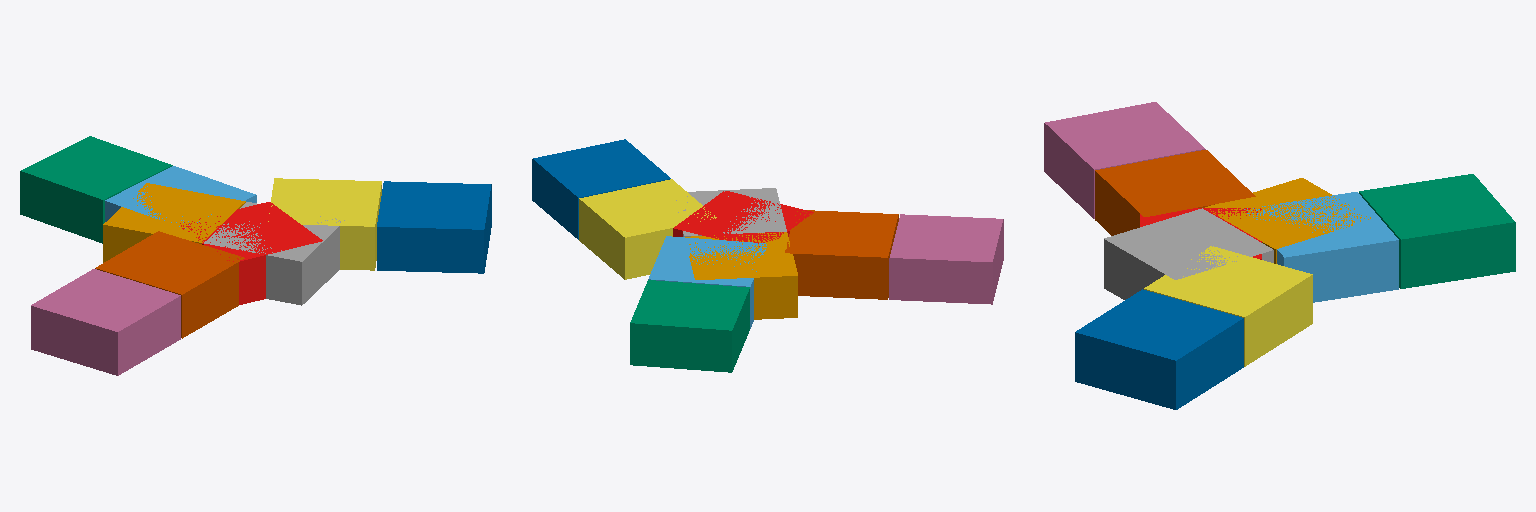
The robot description file, URDF, robot "Model_Models/Model_186.urdf6":
<?xml version='1.0' encoding='UTF-8'?>
<robot name="Model_Models/Model_186.urdf6">
  <link name="base_link">
    <inertial>
      <origin xyz="0.0 0.0 0.0" rpy="0.0 -0.0 0.0"/>
      <mass value="1.0"/>
      <inertia ixx="1.0" ixy="0.0" ixz="0.0" iyy="1.0" iyz="0.0" izz="1.0"/>
    </inertial>
    <visual>
      <geometry>
        <box size="0.67 0.67 0.3 "/>
      </geometry>
      <material name="red"/>
      <origin xyz="0.0 0.0 0.0" rpy="0.0 -0.0 0.0"/>
    </visual>
    <collision>
      <geometry>
        <box size="0.67 0.67 0.3 "/>
      </geometry>
      <origin xyz="0.0 0.0 0.0" rpy="0.0 0.0 0.0"/>
    </collision>
  </link>
  <link name="arm_0_arm1">
    <inertial>
      <origin xyz="0.0 0.34 0.0" rpy="0.0 0.0 0.0"/>
      <mass value="1.0"/>
      <inertia ixx="0.0" ixy="0.0" ixz="0.0" iyy="0.0" iyz="0.0" izz="0.0"/>
    </inertial>
    <visual>
      <geometry>
        <box size="0.67 0.67 0.3 "/>
      </geometry>
      <origin xyz="0.0 0.34 0.0" rpy="0.0 0.0 0.0"/>
    </visual>
    <collision>
      <geometry>
        <box size="0.67 0.67 0.3 "/>
      </geometry>
      <origin xyz="0.0 0.34 0.0" rpy="0.0 0.0 0.0"/>
    </collision>
  </link>
  <link name="arm_0_arm2">
    <inertial>
      <origin xyz="0.0 0.34 0.0" rpy="0.0 0.0 0.0"/>
      <mass value="1.0"/>
      <inertia ixx="0.0" ixy="0.0" ixz="0.0" iyy="0.0" iyz="0.0" izz="0.0"/>
    </inertial>
    <visual>
      <geometry>
        <box size="0.67 0.67 0.3 "/>
      </geometry>
      <origin xyz="0.0 0.34 0.0" rpy="0.0 0.0 0.0"/>
    </visual>
    <collision>
      <geometry>
        <box size="0.67 0.67 0.3 "/>
      </geometry>
      <origin xyz="0.0 0.34 0.0" rpy="0.0 0.0 0.0"/>
    </collision>
  </link>
  <link name="arm_2_arm1">
    <inertial>
      <origin xyz="0.0 0.34 0.0" rpy="0.0 0.0 0.0"/>
      <mass value="1.0"/>
      <inertia ixx="0.0" ixy="0.0" ixz="0.0" iyy="0.0" iyz="0.0" izz="0.0"/>
    </inertial>
    <visual>
      <geometry>
        <box size="0.67 0.67 0.3 "/>
      </geometry>
      <origin xyz="0.0 0.34 0.0" rpy="0.0 0.0 0.0"/>
    </visual>
    <collision>
      <geometry>
        <box size="0.67 0.67 0.3 "/>
      </geometry>
      <origin xyz="0.0 0.34 0.0" rpy="0.0 0.0 0.0"/>
    </collision>
  </link>
  <link name="arm_2_arm2">
    <inertial>
      <origin xyz="0.0 0.34 0.0" rpy="0.0 0.0 0.0"/>
      <mass value="1.0"/>
      <inertia ixx="0.0" ixy="0.0" ixz="0.0" iyy="0.0" iyz="0.0" izz="0.0"/>
    </inertial>
    <visual>
      <geometry>
        <box size="0.67 0.67 0.3 "/>
      </geometry>
      <origin xyz="0.0 0.34 0.0" rpy="0.0 0.0 0.0"/>
    </visual>
    <collision>
      <geometry>
        <box size="0.67 0.67 0.3 "/>
      </geometry>
      <origin xyz="0.0 0.34 0.0" rpy="0.0 0.0 0.0"/>
    </collision>
  </link>
  <link name="arm_3_arm1">
    <inertial>
      <origin xyz="0.0 0.34 0.0" rpy="0.0 0.0 0.0"/>
      <mass value="1.0"/>
      <inertia ixx="0.0" ixy="0.0" ixz="0.0" iyy="0.0" iyz="0.0" izz="0.0"/>
    </inertial>
    <visual>
      <geometry>
        <box size="0.67 0.67 0.3 "/>
      </geometry>
      <origin xyz="0.0 0.34 0.0" rpy="0.0 0.0 0.0"/>
    </visual>
    <collision>
      <geometry>
        <box size="0.67 0.67 0.3 "/>
      </geometry>
      <origin xyz="0.0 0.34 0.0" rpy="0.0 0.0 0.0"/>
    </collision>
  </link>
  <link name="arm_3_arm2">
    <inertial>
      <origin xyz="0.0 0.34 0.0" rpy="0.0 0.0 0.0"/>
      <mass value="1.0"/>
      <inertia ixx="0.0" ixy="0.0" ixz="0.0" iyy="0.0" iyz="0.0" izz="0.0"/>
    </inertial>
    <visual>
      <geometry>
        <box size="0.67 0.67 0.3 "/>
      </geometry>
      <origin xyz="0.0 0.34 0.0" rpy="0.0 0.0 0.0"/>
    </visual>
    <collision>
      <geometry>
        <box size="0.67 0.67 0.3 "/>
      </geometry>
      <origin xyz="0.0 0.34 0.0" rpy="0.0 0.0 0.0"/>
    </collision>
  </link>
  <link name="arm_Permutation_6_arm1">
    <inertial>
      <origin xyz="0.0 0.34 0.0" rpy="0.0 0.0 0.0"/>
      <mass value="1.0"/>
      <inertia ixx="0.0" ixy="0.0" ixz="0.0" iyy="0.0" iyz="0.0" izz="0.0"/>
    </inertial>
    <visual>
      <geometry>
        <box size="0.67 0.67 0.3 "/>
      </geometry>
      <origin xyz="0.0 0.34 0.0" rpy="0.0 0.0 0.0"/>
    </visual>
    <collision>
      <geometry>
        <box size="0.67 0.67 0.3 "/>
      </geometry>
      <origin xyz="0.0 0.34 0.0" rpy="0.0 0.0 0.0"/>
    </collision>
  </link>
  <link name="arm_Permutation_6_arm2">
    <inertial>
      <origin xyz="0.0 0.34 0.0" rpy="0.0 0.0 0.0"/>
      <mass value="1.0"/>
      <inertia ixx="0.0" ixy="0.0" ixz="0.0" iyy="0.0" iyz="0.0" izz="0.0"/>
    </inertial>
    <visual>
      <geometry>
        <box size="0.67 0.67 0.3 "/>
      </geometry>
      <origin xyz="0.0 0.34 0.0" rpy="0.0 0.0 0.0"/>
    </visual>
    <collision>
      <geometry>
        <box size="0.67 0.67 0.3 "/>
      </geometry>
      <origin xyz="0.0 0.34 0.0" rpy="0.0 0.0 0.0"/>
    </collision>
  </link>
  <joint name="arm_0_jointBase" type="fixed">
    <limit effort="1.57" velocity="1.57" lower="-1.57" upper="1.57"/>
    <parent link="base_link"/>
    <child link="arm_0_arm1"/>
    <axis xyz="1. 0. 0."/>
    <origin xyz="0.0 0.34 0.0" rpy="0.0 0.0 0.35"/>
  </joint>
  <joint name="arm_0_joint1" type="revolute">
    <limit effort="1.57" velocity="1.57" lower="-1.57" upper="1.57"/>
    <parent link="arm_0_arm1"/>
    <child link="arm_0_arm2"/>
    <axis xyz="1. 0. 0."/>
    <origin xyz="0.0 0.68 0.0" rpy="0.0 0.0 0.0"/>
  </joint>
  <joint name="arm_2_jointBase" type="fixed">
    <limit effort="1.57" velocity="1.57" lower="-1.57" upper="1.57"/>
    <parent link="base_link"/>
    <child link="arm_2_arm1"/>
    <axis xyz="1. 0. 0."/>
    <origin xyz="0.34 0.34 0.0" rpy="0.0 0.0 -2.16"/>
  </joint>
  <joint name="arm_2_joint1" type="revolute">
    <limit effort="1.57" velocity="1.57" lower="-1.57" upper="1.57"/>
    <parent link="arm_2_arm1"/>
    <child link="arm_2_arm2"/>
    <axis xyz="1. 0. 0."/>
    <origin xyz="0.0 0.68 0.0" rpy="0.0 0.0 0.0"/>
  </joint>
  <joint name="arm_3_jointBase" type="fixed">
    <limit effort="1.57" velocity="1.57" lower="-1.57" upper="1.57"/>
    <parent link="base_link"/>
    <child link="arm_3_arm1"/>
    <axis xyz="1. 0. 0."/>
    <origin xyz="-0.34 0.0 0.0" rpy="0.0 0.0 1.99"/>
  </joint>
  <joint name="arm_3_joint1" type="revolute">
    <limit effort="1.57" velocity="1.57" lower="-1.57" upper="1.57"/>
    <parent link="arm_3_arm1"/>
    <child link="arm_3_arm2"/>
    <axis xyz="1. 0. 0."/>
    <origin xyz="0.0 0.68 0.0" rpy="0.0 0.0 0.0"/>
  </joint>
  <joint name="arm_Permutation_6_jointBase" type="fixed">
    <limit effort="1.57" velocity="1.57" lower="-1.57" upper="1.57"/>
    <parent link="base_link"/>
    <child link="arm_Permutation_6_arm1"/>
    <axis xyz="1. 0. 0."/>
    <origin xyz="0.34 -0.34 0.0" rpy="0.0 0.0 0.63"/>
  </joint>
  <joint name="arm_Permutation_6_joint1" type="revolute">
    <limit effort="1.57" velocity="1.57" lower="-1.57" upper="1.57"/>
    <parent link="arm_Permutation_6_arm1"/>
    <child link="arm_Permutation_6_arm2"/>
    <axis xyz="1. 0. 0."/>
    <origin xyz="0.0 0.68 0.0" rpy="0.0 0.0 0.0"/>
  </joint>
  <material name="red">
    <color rgba="0.969 0.129 0.122 1.   "/>
  </material>
</robot>

--- What the picture shows (computed from the rendered views, not written in the file) ---
The picture shows the robot from 3 angles, left to right: view 1: azimuth 30°, elevation 25°; view 2: azimuth 150°, elevation 25°; view 3: azimuth 270°, elevation 25°; orthographic projection.
Model Model_Models/Model_186.urdf6 with 9 links and 8 joints (4 revolute, 4 fixed), rooted at base_link, posed every joint at zero.
Visible links, largest first — view 1: arm_3_arm2, arm_2_arm2, arm_0_arm2, arm_3_arm1, arm_2_arm1, arm_Permutation_6_arm2, arm_Permutation_6_arm1, base_link, arm_0_arm1; view 2: arm_0_arm2, arm_3_arm2, arm_3_arm1, arm_2_arm1, arm_2_arm2, arm_Permutation_6_arm2, base_link, arm_0_arm1, arm_Permutation_6_arm1; view 3: arm_2_arm2, arm_0_arm2, arm_2_arm1, arm_3_arm2, arm_0_arm1, arm_3_arm1, arm_Permutation_6_arm1, arm_Permutation_6_arm2, base_link.
Boxes of the visible links, x1,y1,x2,y2 form: arm_3_arm2: [31, 269, 180, 375]; arm_2_arm2: [377, 181, 491, 273]; arm_0_arm2: [20, 136, 172, 243]; arm_3_arm1: [95, 231, 244, 338]; arm_2_arm1: [268, 178, 381, 270]; arm_Permutation_6_arm2: [103, 183, 245, 262]; arm_Permutation_6_arm1: [204, 202, 344, 305]; base_link: [180, 202, 322, 304]; arm_0_arm1: [105, 166, 256, 228]; arm_0_arm2: [630, 280, 749, 372]; arm_3_arm2: [889, 214, 1003, 304]; arm_3_arm1: [785, 210, 898, 299]; arm_2_arm1: [579, 179, 716, 279]; arm_2_arm2: [532, 139, 670, 239]; arm_Permutation_6_arm2: [685, 232, 797, 319]; base_link: [673, 191, 813, 246]; arm_0_arm1: [648, 236, 766, 328]; arm_Permutation_6_arm1: [676, 188, 786, 236]; arm_2_arm2: [1075, 289, 1243, 409]; arm_0_arm2: [1359, 174, 1515, 288]; arm_2_arm1: [1144, 246, 1312, 366]; arm_3_arm2: [1044, 102, 1205, 218]; arm_0_arm1: [1244, 192, 1398, 302]; arm_3_arm1: [1095, 150, 1255, 235]; arm_Permutation_6_arm1: [1104, 208, 1273, 299]; arm_Permutation_6_arm2: [1205, 178, 1370, 263]; base_link: [1140, 208, 1261, 259].
Bounding box of the posed robot: 3.37 × 2.59 × 0.3 m (x, y, z).
Geometry: primitives only (box / cylinder / sphere), no mesh files.